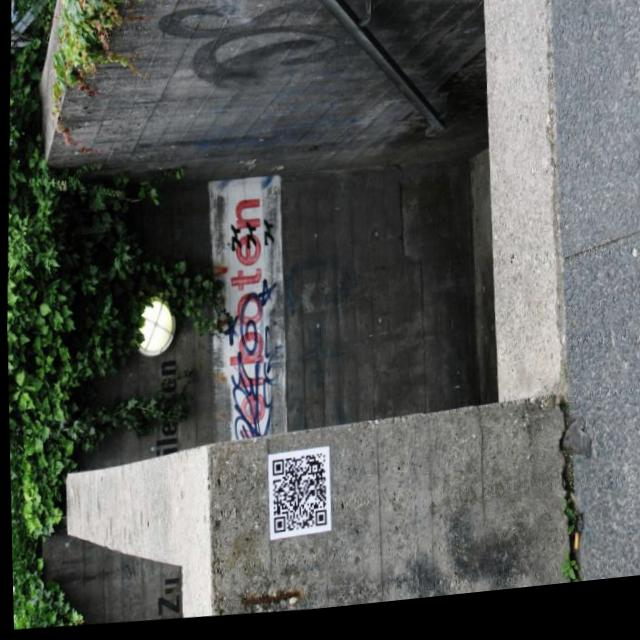qrcode: (268, 457, 327, 541)
